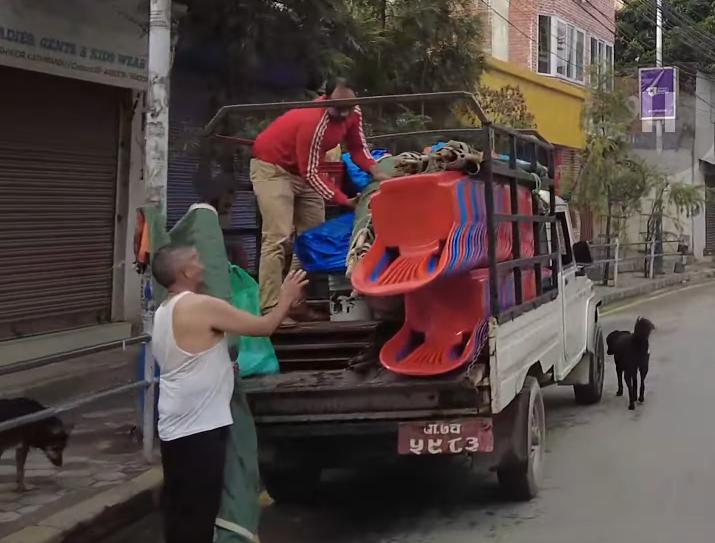transport_vehicle: (173, 88, 611, 502)
